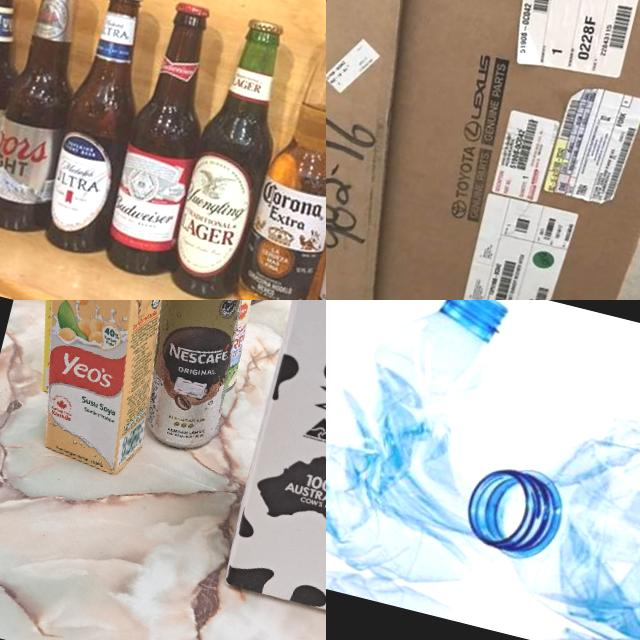caixinha: (216, 300, 326, 630), (9, 300, 186, 481), (10, 300, 136, 403)
garrafa de vidro: (161, 12, 304, 300), (97, 0, 233, 281), (35, 0, 168, 262), (232, 12, 326, 300), (0, 0, 105, 240), (0, 0, 42, 217)
garrafa plástica: (326, 300, 569, 613), (446, 386, 640, 640)
lata: (119, 300, 267, 458)
papelão: (326, 0, 640, 300)
